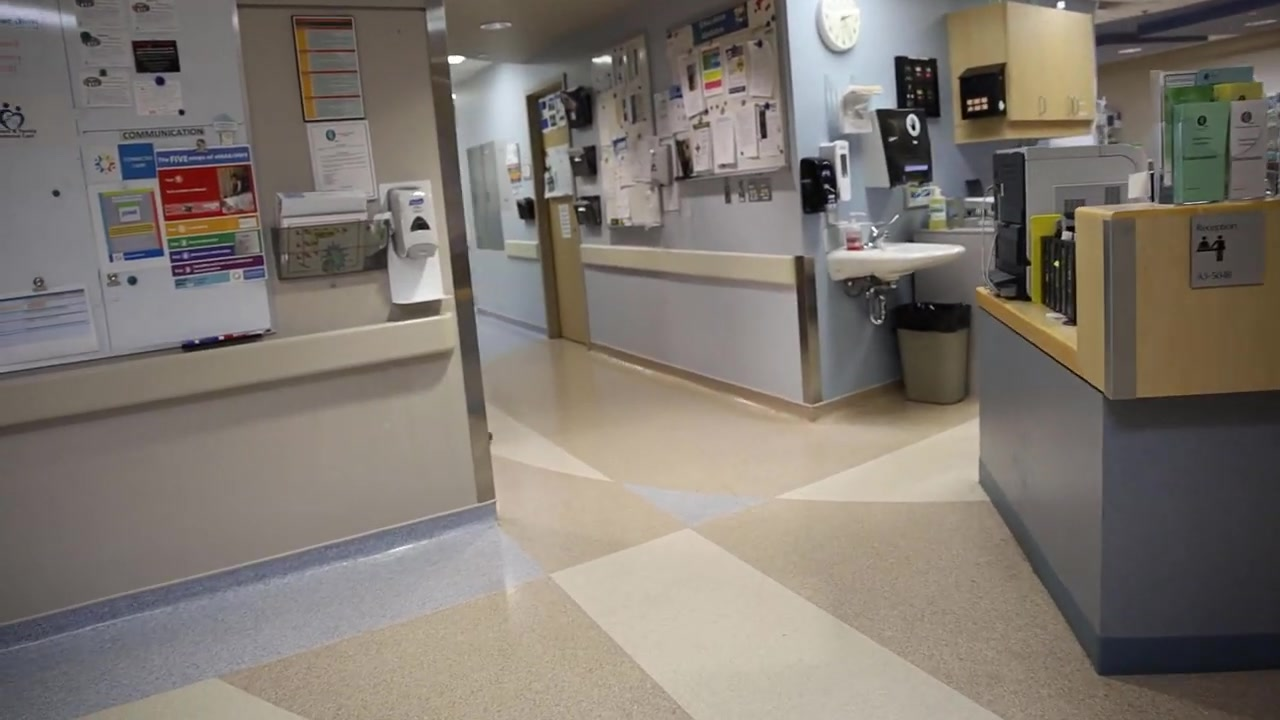cabinet: (949, 7, 1101, 149)
counter: (978, 176, 1280, 675)
countertop: (1073, 192, 1280, 229)
dispenser: (379, 181, 457, 311), (858, 110, 934, 188), (800, 157, 838, 212), (833, 139, 852, 203), (928, 187, 948, 228), (649, 147, 669, 186), (847, 210, 866, 251)
faucet: (864, 211, 901, 249)
hallway_assist_bar: (2, 311, 453, 420), (570, 247, 815, 279)
handle: (1068, 96, 1082, 116), (1037, 96, 1051, 115)
sink: (825, 241, 970, 282)
waste_bin: (895, 302, 969, 403)
